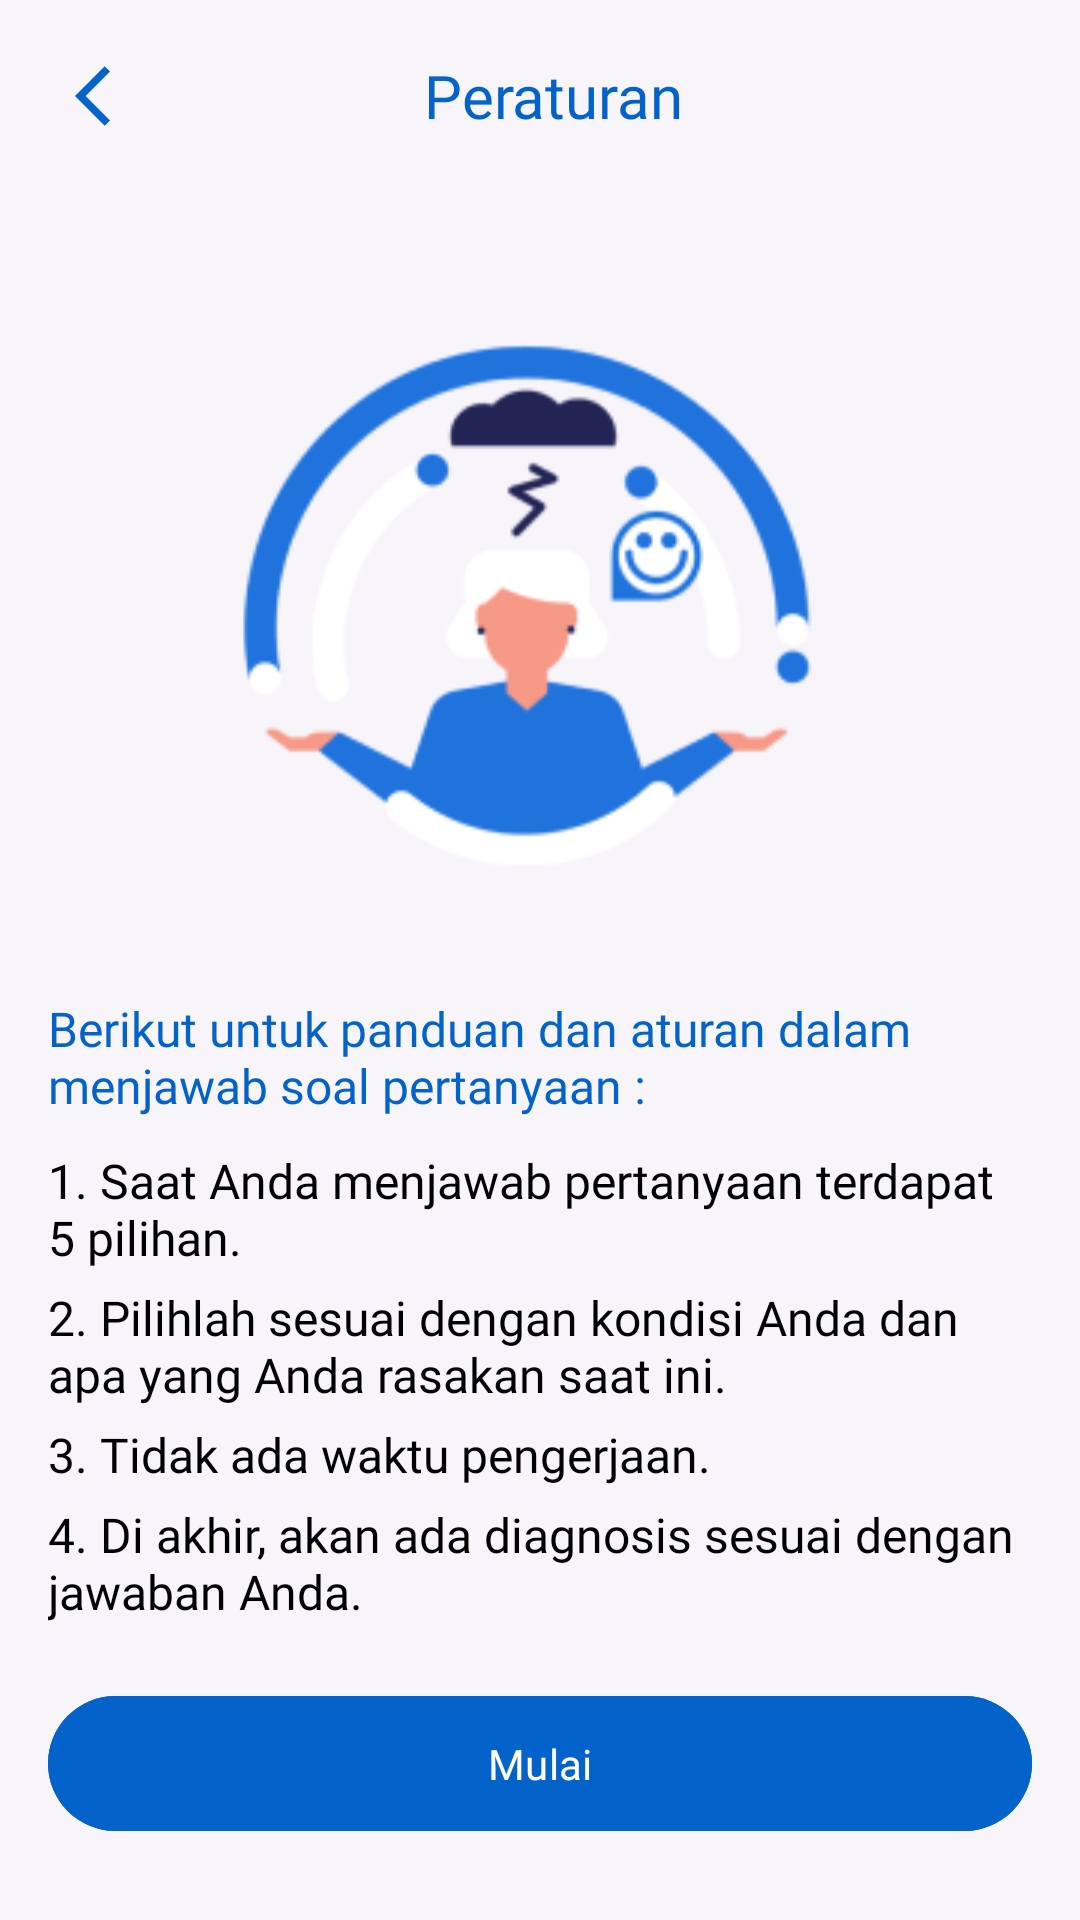

Where to tap for icons on this 1080x1920 app screen, as [x,y]:
Button Back: [92,96]
